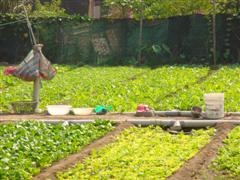bowl: (46, 104, 72, 116), (71, 106, 96, 115)
bucket: (203, 91, 225, 119)
